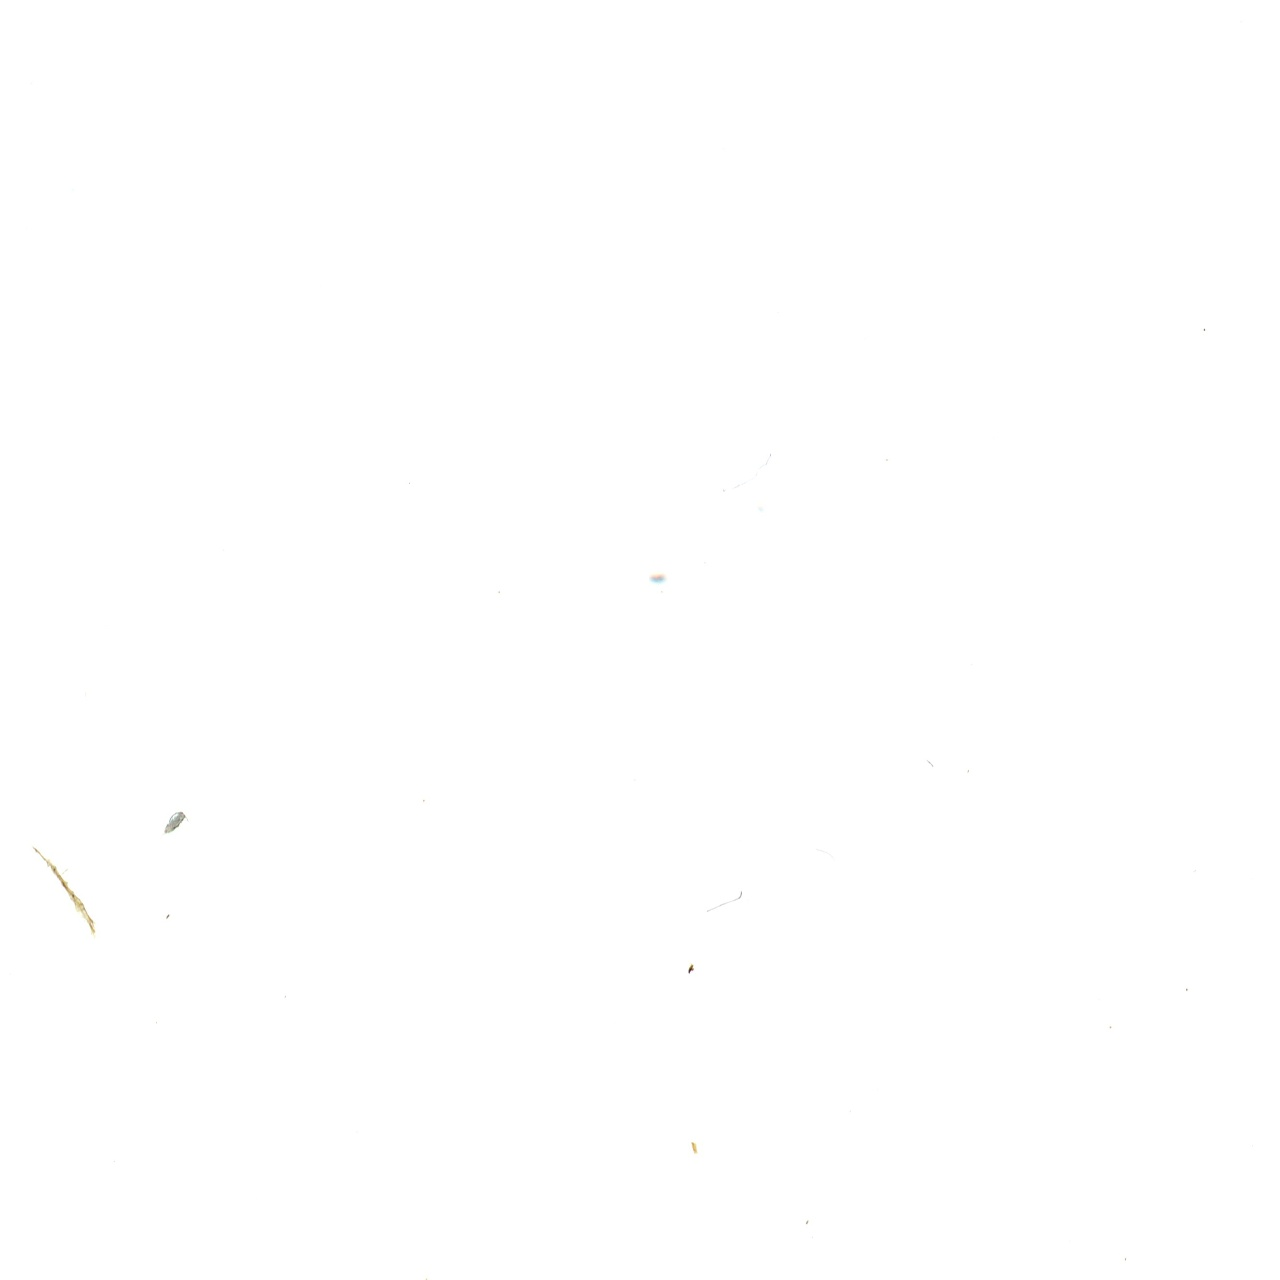arthropod: (157, 806, 193, 846)
